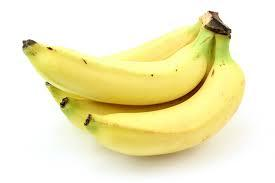non-mango: (22, 11, 244, 158)
